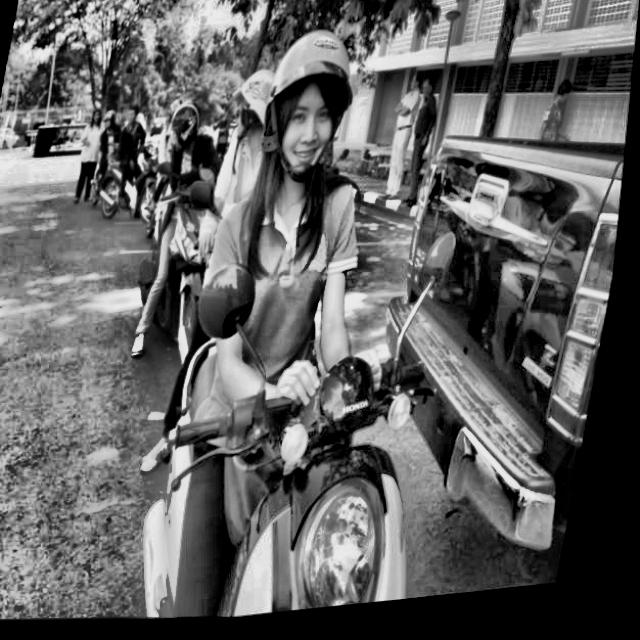Helmet: (251, 25, 370, 202)
